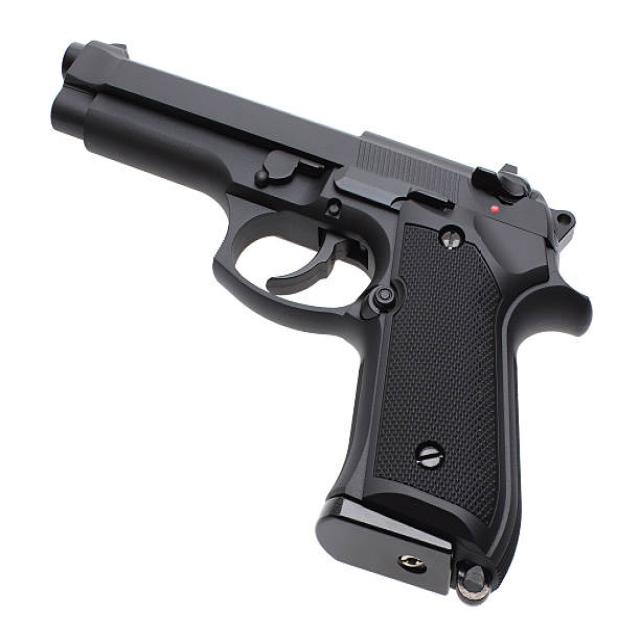pistol: (45, 30, 605, 612)
